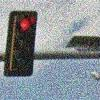traffic lights: (5, 10, 38, 78)
